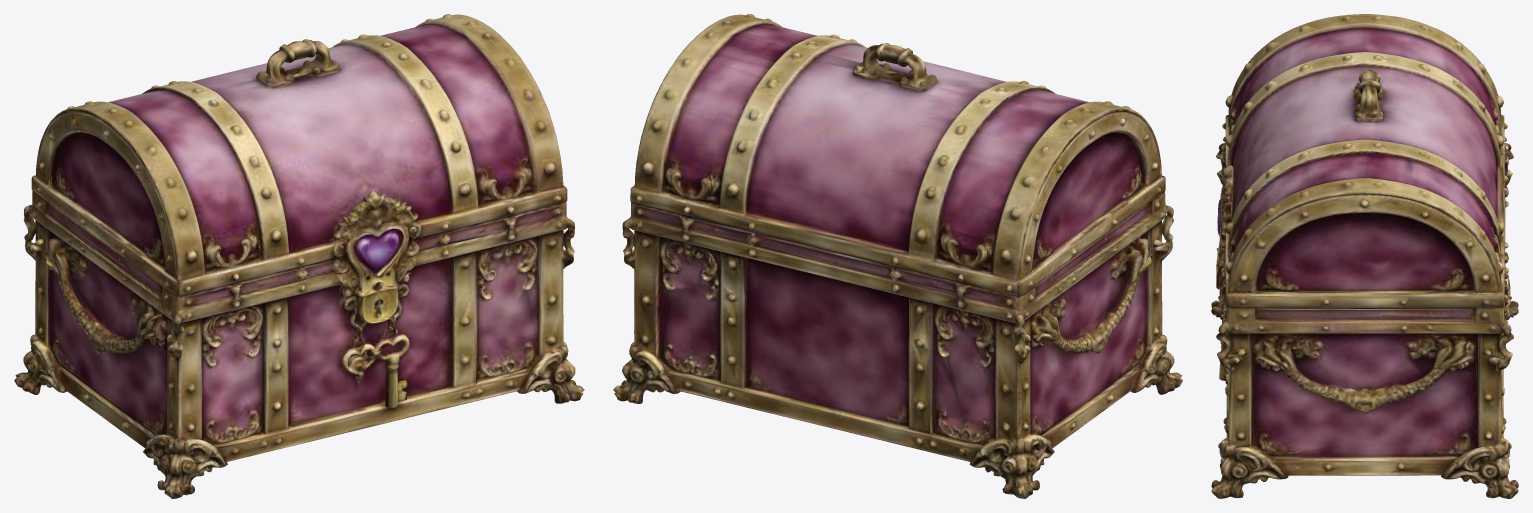
File: treasure_chest.glb
The picture shows the model from 3 angles, left to right: view 1: azimuth 30°, elevation 25°; view 2: azimuth 150°, elevation 25°; view 3: azimuth 270°, elevation 25°; orthographic projection. The views are drawn at different scales.
Parts seen in each view (by area): view 1: material; view 2: material; view 3: material.
Part boxes in pixels (x1,y1,x2,y2): material: (14,14,584,498); material: (613,14,1182,498); material: (1211,14,1518,498).
Bounding box in the file's own units: 0.8513 × 0.6782 × 0.5711.
Materials: 1 (1 with a texture image).
